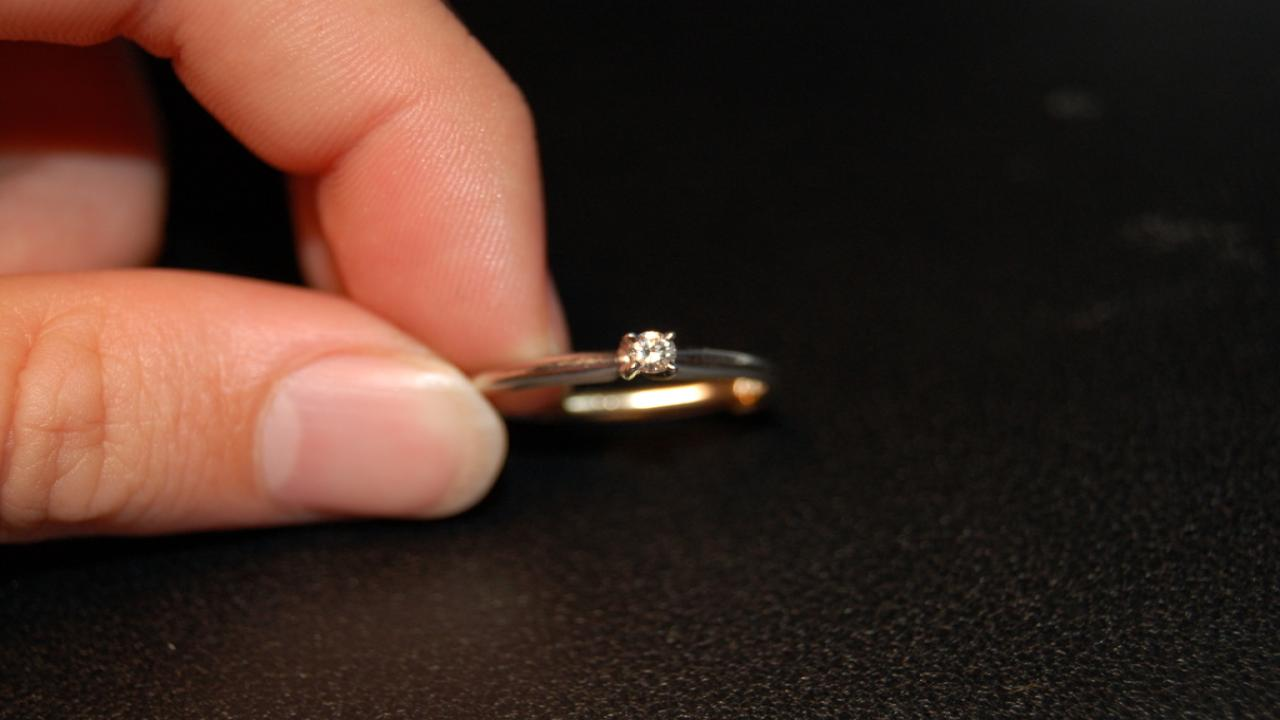ring: (465, 325, 783, 430)
